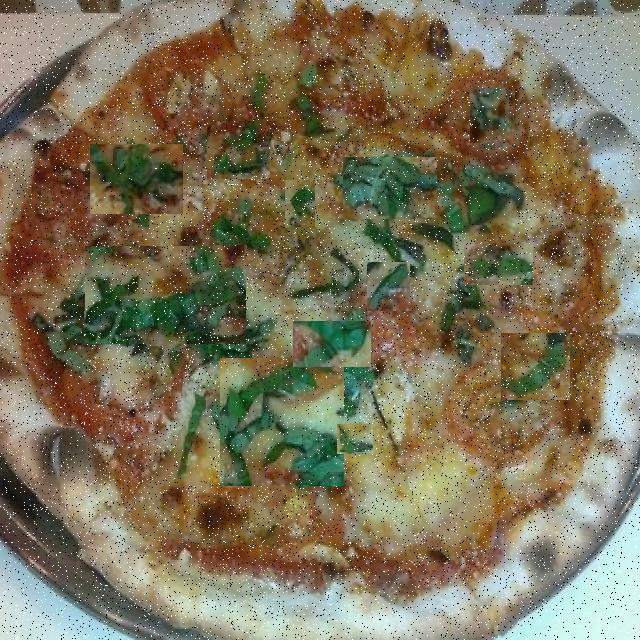Basil: (85, 246, 248, 344), (220, 358, 344, 486), (90, 144, 183, 214), (343, 157, 437, 219), (502, 333, 572, 400), (452, 166, 515, 233), (207, 121, 270, 179), (293, 321, 371, 367), (210, 202, 271, 258), (293, 64, 331, 145), (464, 243, 533, 285), (37, 312, 90, 366), (178, 392, 208, 480), (470, 88, 515, 143), (367, 262, 410, 311), (285, 180, 315, 228), (337, 424, 373, 454)
Pizza: (0, 0, 640, 640)
